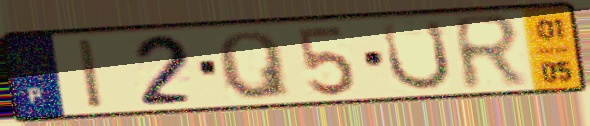2: (132, 30, 201, 111)
5: (293, 22, 358, 99)
I: (74, 36, 108, 112)
Q: (214, 28, 295, 102)
R: (448, 10, 531, 95)
U: (379, 17, 455, 94)
